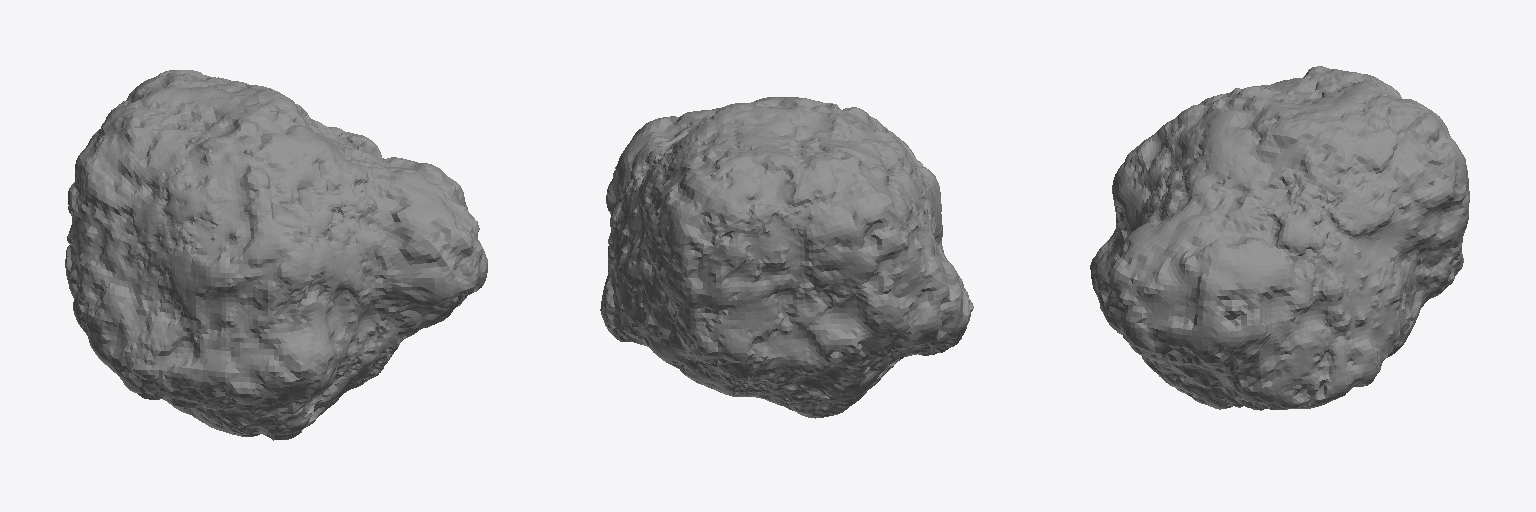
Rendered from AsteroidQuads.obj.
3 views of the same model, side by side, from view 1: azimuth 30°, elevation 25°; view 2: azimuth 150°, elevation 25°; view 3: azimuth 270°, elevation 25° (orthographic).
Visible parts, largest first — view 1: Group1_6; view 2: Group1_6; view 3: Group1_6.
Part boxes in pixels (bbox=[...]): Group1_6: bbox=[65, 70, 487, 440]; Group1_6: bbox=[600, 97, 973, 418]; Group1_6: bbox=[1090, 66, 1469, 410].
Size of the model in its own units: 34.72 by 27.4 by 31.89.